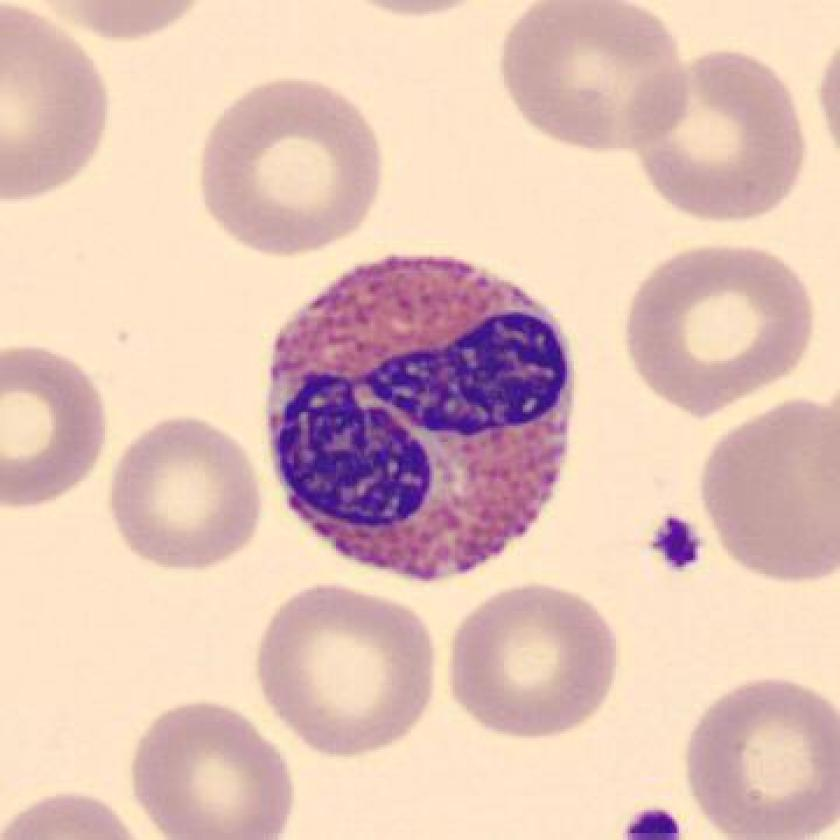eosinophil: (256, 228, 585, 596)
